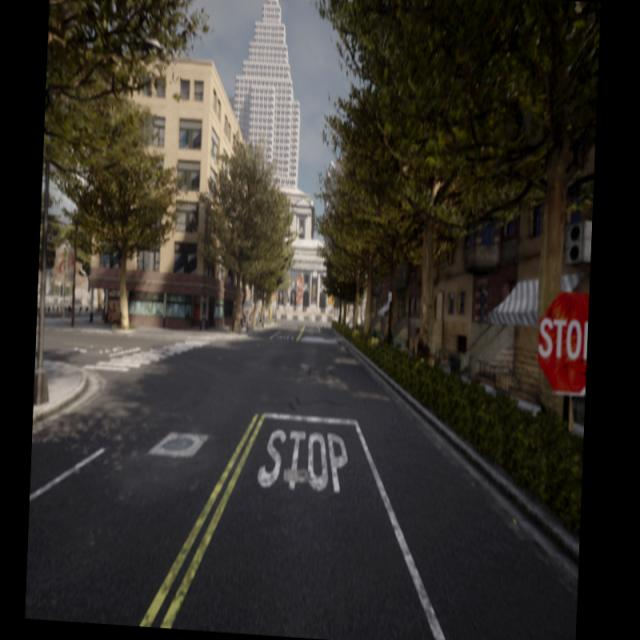stop sign: (534, 288, 590, 398)
